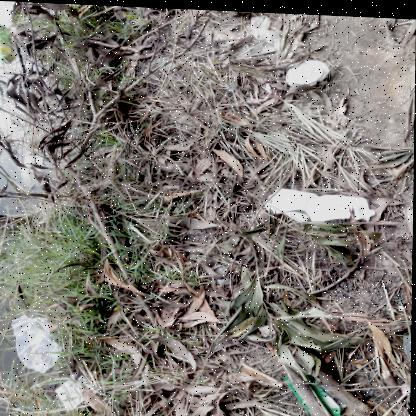Plastic: (12, 314, 63, 373), (284, 371, 348, 416), (229, 12, 282, 55), (285, 56, 329, 82), (22, 153, 44, 186), (246, 75, 273, 101), (0, 24, 11, 61), (18, 403, 66, 408), (401, 378, 412, 391)
Waste: (265, 185, 376, 219), (56, 371, 97, 410), (259, 320, 276, 334), (226, 82, 235, 89), (1, 56, 8, 61)
